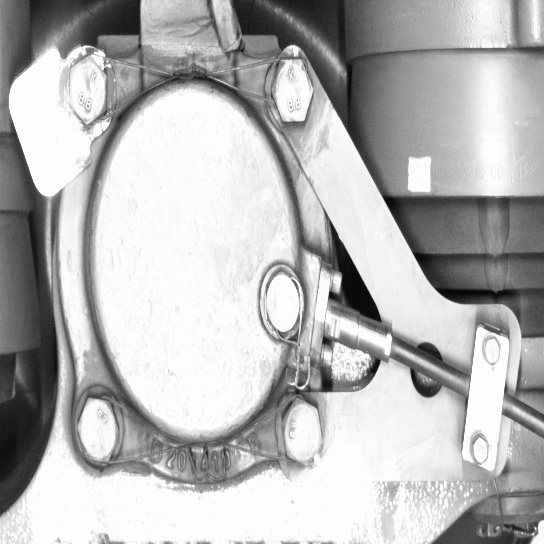IronWire: (62, 49, 318, 133), (69, 390, 331, 472)
Screw: (264, 49, 318, 130), (69, 390, 124, 469), (275, 392, 329, 471), (62, 50, 113, 132), (258, 265, 304, 340)
